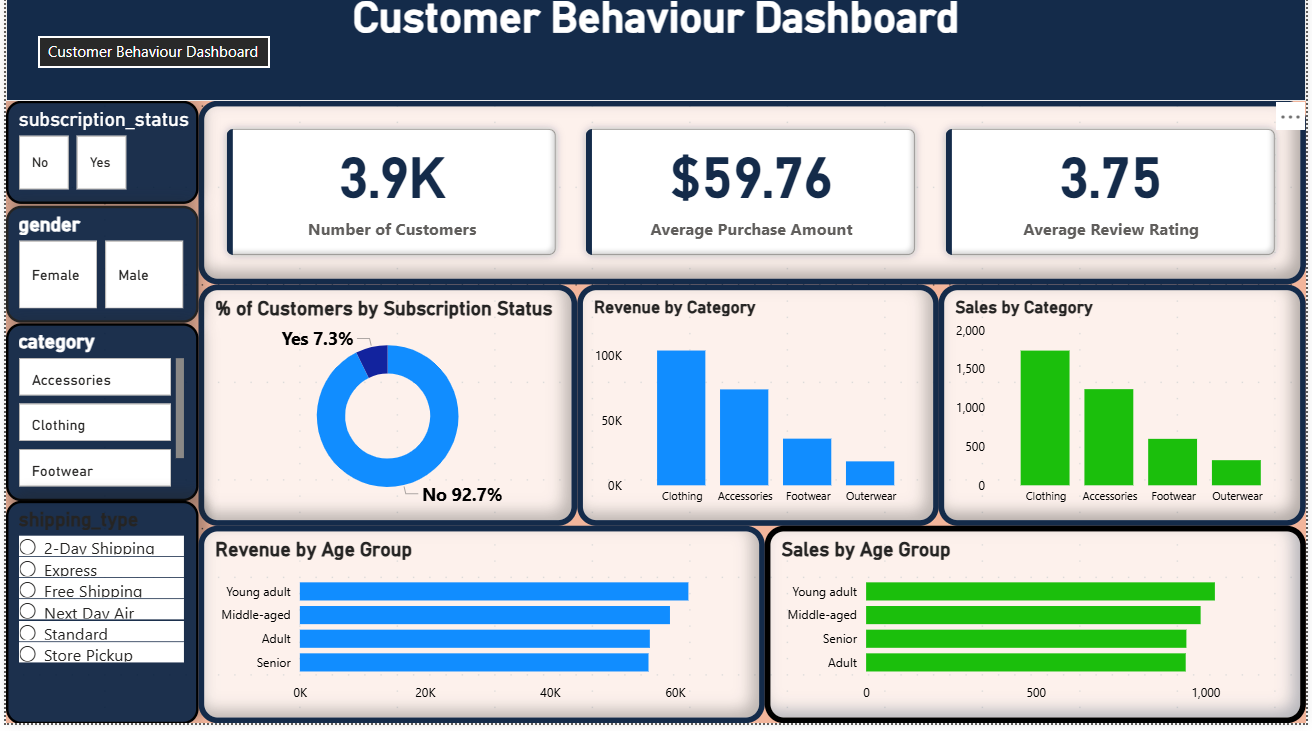

The page's visual inventory and layout, read from the dashboard file:
{"tool":"powerbi","page":{"name":"Page 1","canvas":[1280,720],"ordinal":0},"visuals":[{"type":"cardVisual","fields":{"Data":["public customer.Number of Customers","public customer.Average Purchase Amount","public customer.Average Review Rating"]},"box":[189.2,107.1,1090.8,180.9],"z":0},{"type":"donutChart","title":"% of Customers by Subscription Status","fields":{"Category":["public customer.subscription_status"],"Series":["public customer.subscription_status"],"Y":["Sum(public customer.customer_id)"]},"box":[189.2,288,372.9,237.9],"z":1000},{"type":"clusteredColumnChart","title":"Revenue by Category","fields":{"Y":["Sum(public customer.purchase_amount)"],"Category":["public customer.category"]},"box":[562.1,288,356.2,237.9],"z":2000},{"type":"advancedSlicerVisual","fields":{"Values":["public customer.subscription_status"]},"box":[0,107.1,189.2,101.6],"z":3000},{"type":"advancedSlicerVisual","fields":{"Values":["public customer.gender"]},"box":[0,210.1,189.2,115.5],"z":4000},{"type":"advancedSlicerVisual","fields":{"Values":["public customer.category"]},"box":[0,325.6,189.2,175.3],"z":5000},{"type":"clusteredColumnChart","title":"Sales by Category","fields":{"Y":["CountNonNull(public customer.customer_id)"],"Category":["public customer.category"]},"box":[918.3,288,361.7,237.9],"z":6000},{"type":"listSlicer","fields":{"Values":["public customer.shipping_type"]},"box":[0,500.9,189.2,219.8],"z":7000},{"type":"clusteredBarChart","title":"Revenue by Age Group","fields":{"Y":["Sum(public customer.purchase_amount)"],"Category":["public customer.age_group"]},"box":[189.2,525.9,557.9,194.8],"z":8000},{"type":"clusteredBarChart","title":"Sales by Age Group","fields":{"Y":["CountNonNull(public customer.customer_id)"],"Category":["public customer.age_group"]},"box":[747.1,525.9,532.9,194.8],"z":9000},{"type":"textbox","title":"Customer Behaviour Dashboard","box":[0,0,1280,107.1],"z":10000}]}

Visuals, with their boxes in screenshot pixels (x1, y1, x2, y2), scaled from the page's 1280x720 canvas onto the 1312x731 screenshot:
cardVisual - public customer.Number of Customers x public customer.Average Purchase Amount: (x1=194, y1=109, x2=1311, y2=292)
"% of Customers by Subscription Status" donutChart: (x1=194, y1=292, x2=576, y2=534)
"Revenue by Category" clusteredColumnChart: (x1=576, y1=292, x2=941, y2=534)
advancedSlicerVisual - public customer.subscription_status: (x1=0, y1=109, x2=194, y2=212)
advancedSlicerVisual - public customer.gender: (x1=0, y1=213, x2=194, y2=331)
advancedSlicerVisual - public customer.category: (x1=0, y1=331, x2=194, y2=509)
"Sales by Category" clusteredColumnChart: (x1=941, y1=292, x2=1311, y2=534)
listSlicer - public customer.shipping_type: (x1=0, y1=509, x2=194, y2=730)
"Revenue by Age Group" clusteredBarChart: (x1=194, y1=534, x2=766, y2=730)
"Sales by Age Group" clusteredBarChart: (x1=766, y1=534, x2=1311, y2=730)
"Customer Behaviour Dashboard" textbox: (x1=0, y1=0, x2=1311, y2=109)
